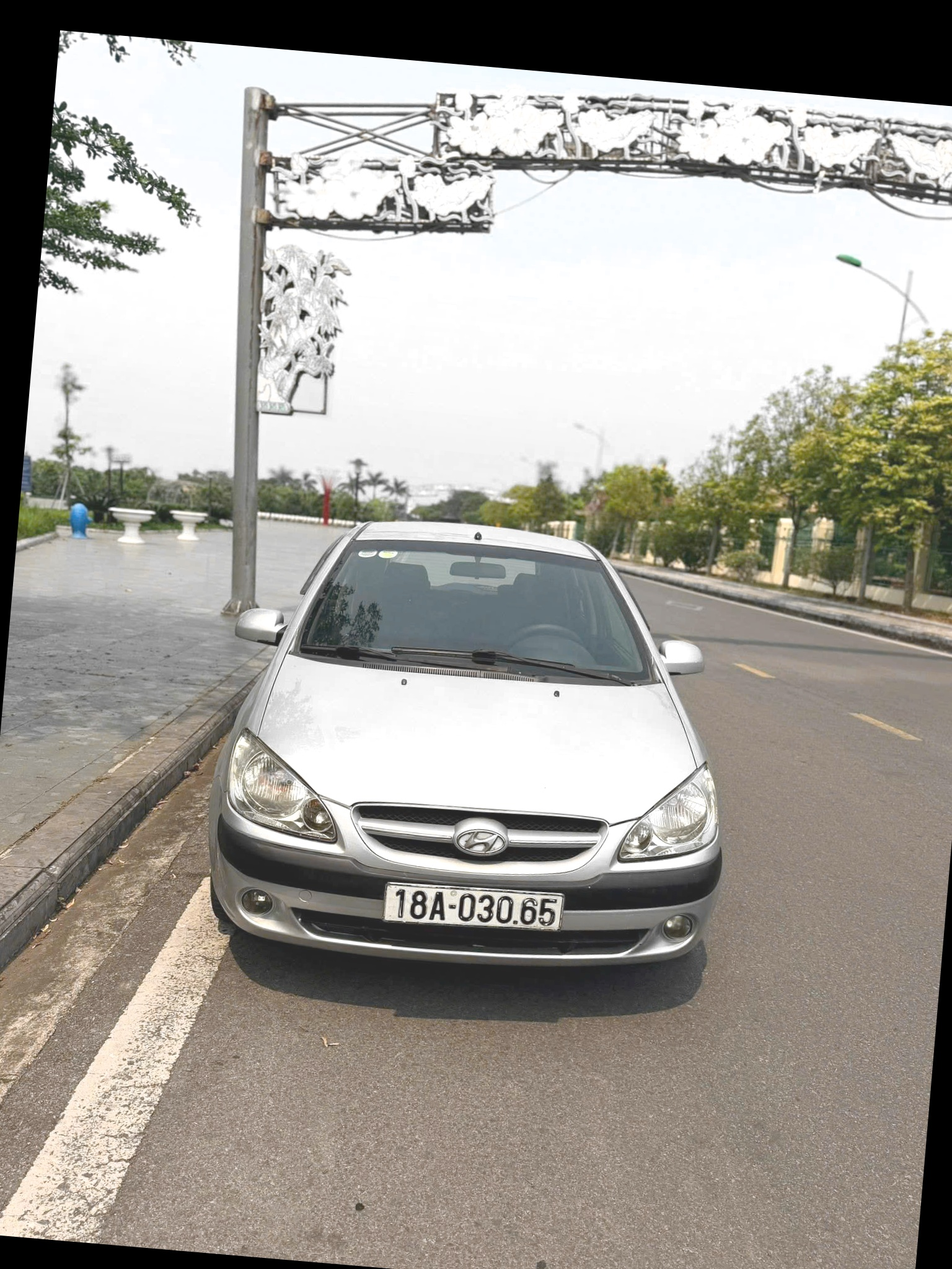Bien-so: (401, 859, 576, 918)
